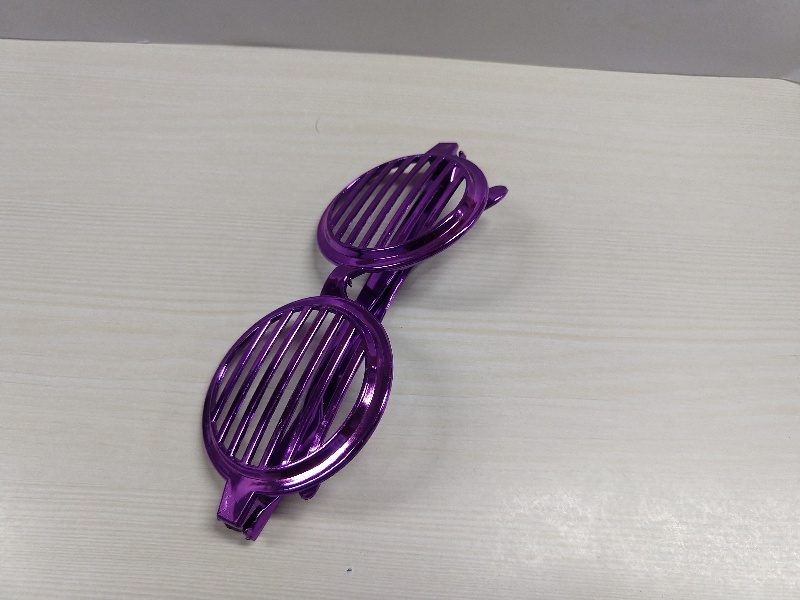shades: (192, 130, 519, 546)
